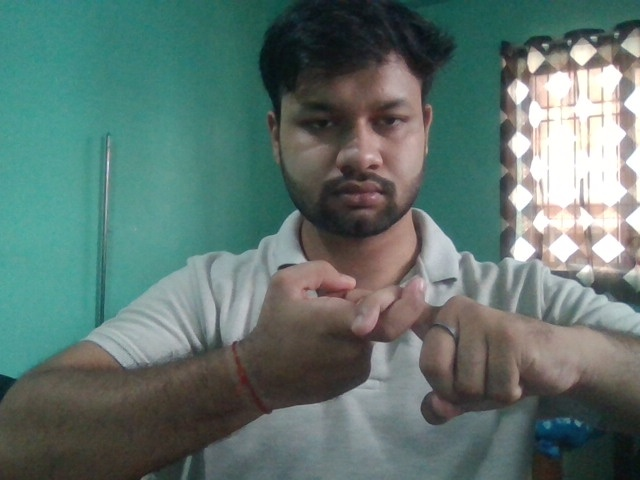Friend: (255, 258, 582, 428)
